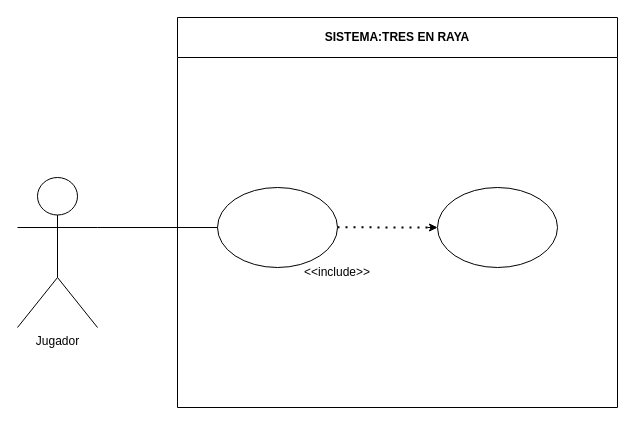
Image size: 635x425. Some labels were removed from this diagram. Each missing label, with the centre of its shape:
"Realizar una jugada" goes at point (277, 227).
"Validar Ganador" goes at point (497, 227).
